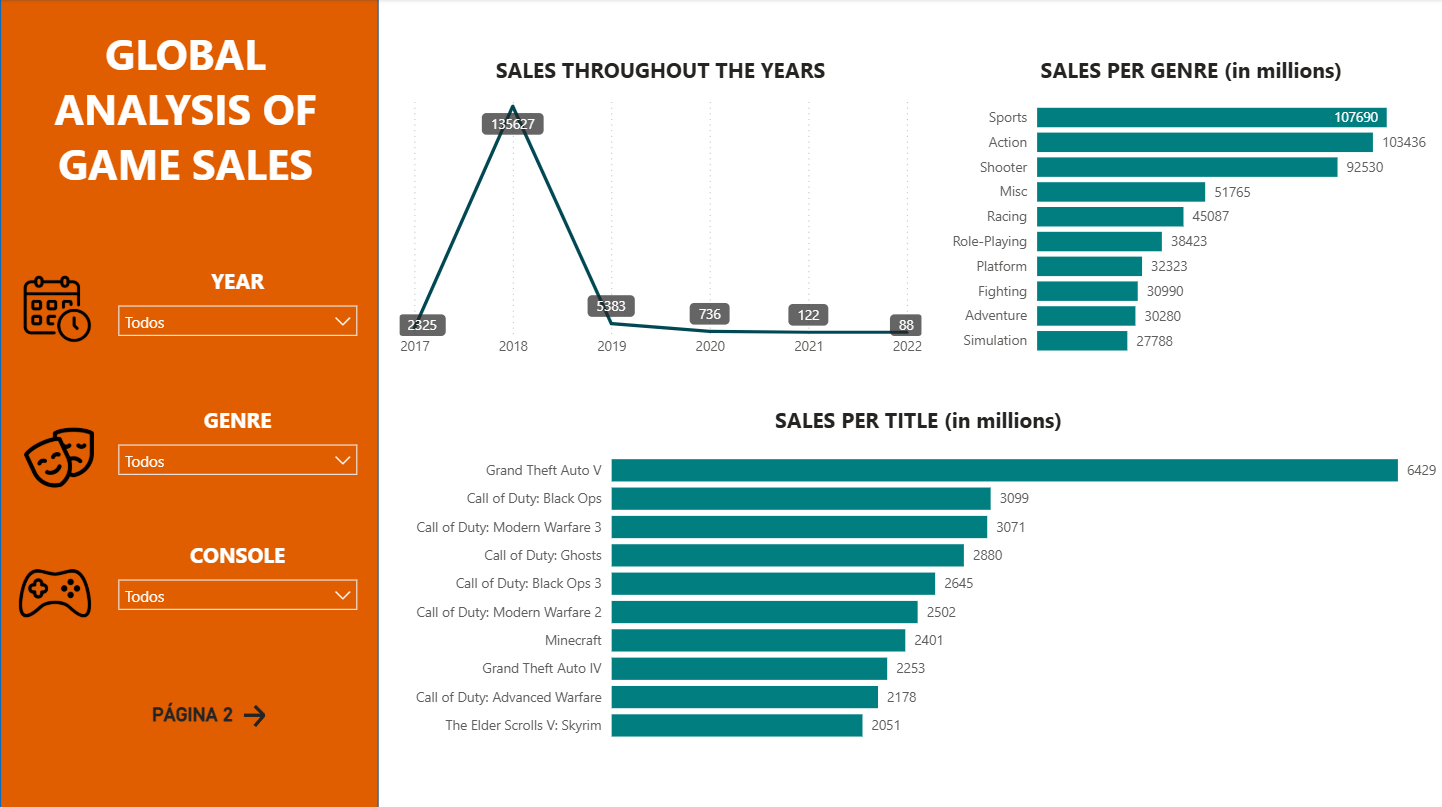

The dashboard page shown, as its layout file describes it:
{"tool":"powerbi","page":{"name":"Vendas","canvas":[1280,720],"ordinal":0},"visuals":[{"type":"clusteredBarChart","title":"SALES PER TITLE (in millions)","fields":{"Category":["vgchartz-2024.title"],"Y":["Sum(vgchartz-2024.total_sales)"]},"box":[349.7,359.8,930.3,309.4],"z":0},{"type":"clusteredBarChart","title":"SALES PER GENRE (in millions)","fields":{"Category":["vgchartz-2024.genre"],"Y":["Sum(vgchartz-2024.total_sales)"]},"box":[832.5,49.4,447.5,276.2],"z":1000},{"type":"lineChart","title":"SALES THROUGHOUT THE YEARS","fields":{"Category":["vgchartz-2024.last_update.Variation.Hierarquia de datas.Ano"],"Y":["Sum(vgchartz-2024.total_sales)"]},"box":[349.7,49.4,472.7,276.2],"z":2000},{"type":"shape","box":[0,0,335.7,720.1],"z":3000},{"type":"textbox","box":[10.1,18.1,309.4,212.7],"z":4000},{"type":"image","box":[10.1,489.8,77.6,74.6],"z":5000},{"type":"slicer","title":"YEAR","fields":{"Values":["vgchartz-2024.last_update.Variation.Hierarquia de datas.Ano"]},"box":[94.7,236.9,231.8,71.6],"z":6000},{"type":"slicer","title":"GENRE","fields":{"Values":["vgchartz-2024.genre"]},"box":[94.7,359.8,231.8,93.7],"z":7000},{"type":"slicer","title":"CONSOLE","fields":{"Values":["vgchartz-2024.console"]},"box":[94.7,479.7,231.8,93.7],"z":8000},{"type":"image","box":[13.1,236.9,74.6,75.6],"z":9000},{"type":"image","box":[13.1,370.9,77.6,71.6],"z":10000},{"type":"actionButton","box":[211,621.6,39.9,28.4],"z":11000},{"type":"textbox","box":[115.3,618.9,110.8,33.7],"z":12000}]}

Visuals, with their boxes in screenshot pixels (x1, y1, x2, y2), scaled from the page's 1280x720 canvas onto the 1442x807 screenshot:
"SALES PER TITLE (in millions)" clusteredBarChart: l=394, t=403, r=1441, b=750
"SALES PER GENRE (in millions)" clusteredBarChart: l=938, t=55, r=1441, b=365
"SALES THROUGHOUT THE YEARS" lineChart: l=394, t=55, r=926, b=365
shape: l=0, t=0, r=378, b=806
textbox: l=11, t=20, r=360, b=259
image: l=11, t=549, r=99, b=633
"YEAR" slicer: l=107, t=266, r=368, b=346
"GENRE" slicer: l=107, t=403, r=368, b=508
"CONSOLE" slicer: l=107, t=538, r=368, b=643
image: l=15, t=266, r=99, b=350
image: l=15, t=416, r=102, b=496
actionButton: l=238, t=697, r=283, b=729
textbox: l=130, t=694, r=255, b=731
